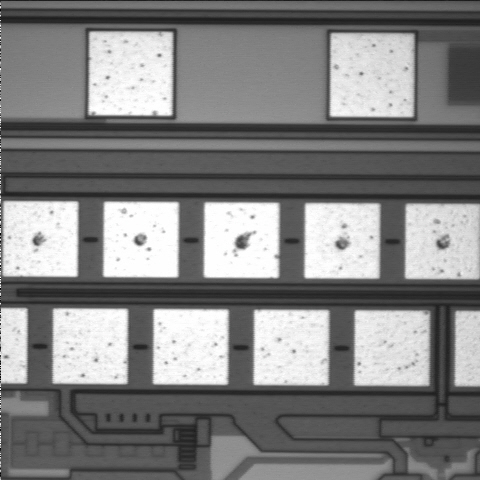pad: (89, 32, 173, 116), (330, 33, 414, 117), (103, 202, 179, 278), (204, 202, 280, 278), (304, 203, 380, 279), (153, 309, 229, 385), (3, 201, 78, 277), (53, 308, 128, 384), (354, 310, 429, 386), (254, 310, 329, 385)
